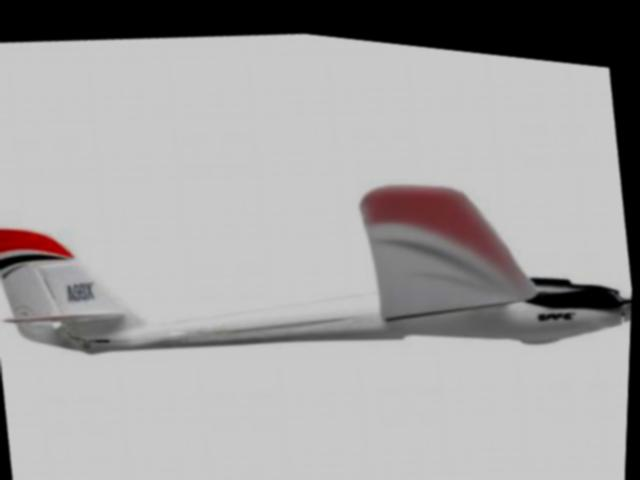uav: (0, 107, 637, 419)
